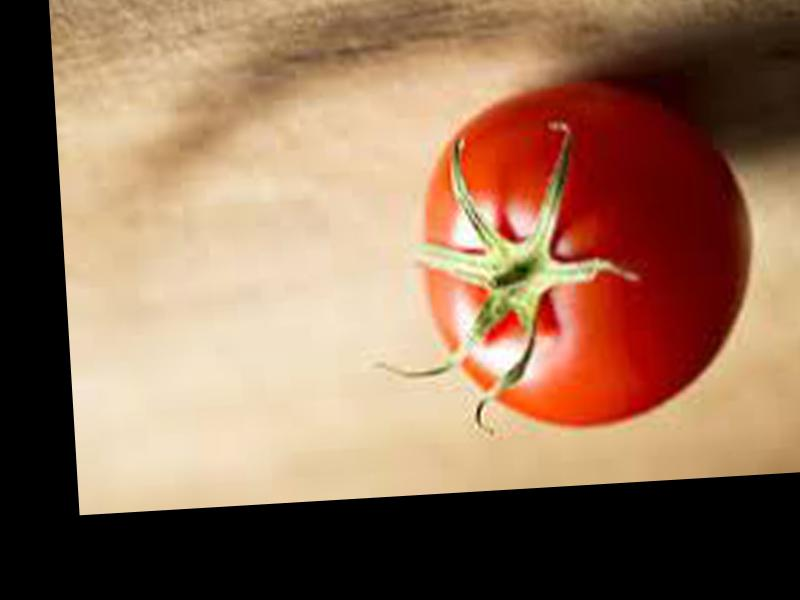Tomato: (409, 75, 758, 430)
